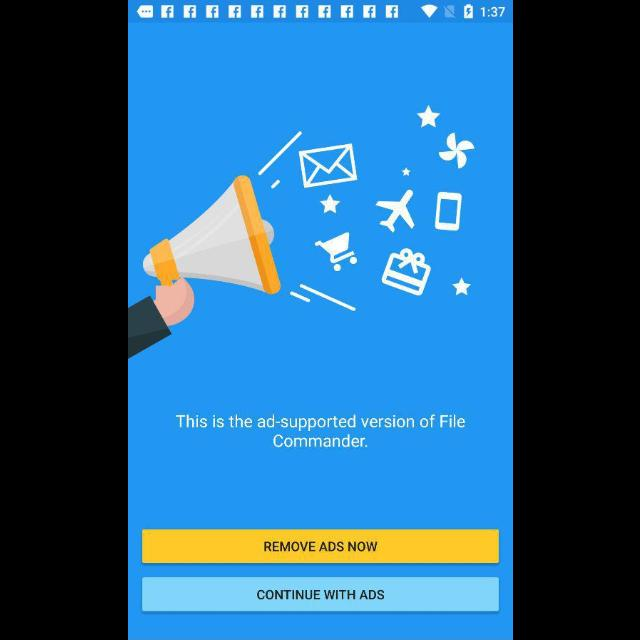image: (128, 105, 474, 359)
text: (175, 414, 465, 448)
textbutton: (142, 577, 498, 611), (142, 530, 498, 564)
uppertaskbar: (128, 1, 512, 23)
